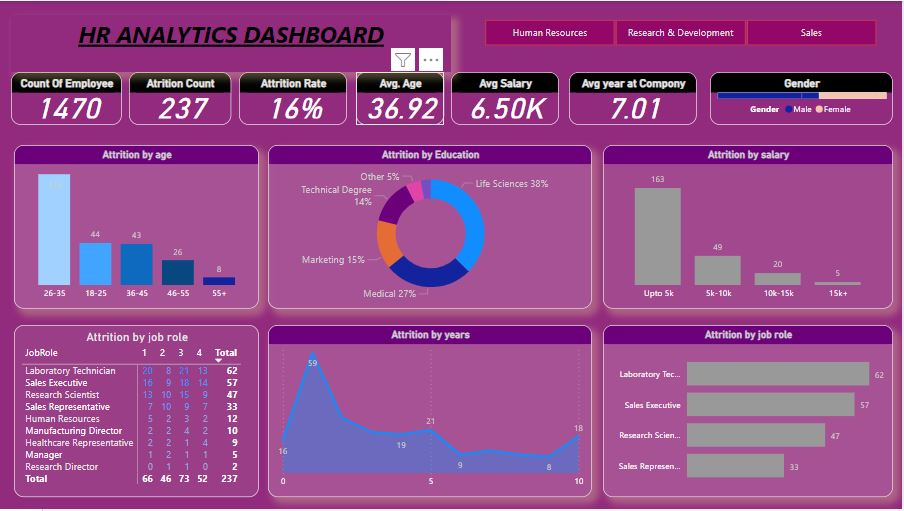

What the dashboard file says about the page in this screenshot:
{"tool":"powerbi","page":{"name":"Page 1","canvas":[1280,720],"ordinal":0},"visuals":[{"type":"card","title":"Count Of Employee","fields":{"Values":["CountNonNull(HR_Analytics.EmpID)"]},"box":[17,100.6,157.3,75.1],"z":0},{"type":"card","title":"Atrition Count","fields":{"Values":["Sum(HR_Analytics.Attritioncount)"]},"box":[184.3,100.6,144.6,75.1],"z":1000},{"type":"card","title":"Attrition Rate","fields":{"Values":["HR_Analytics.attrition rate"]},"box":[340.2,100.6,153.1,75.1],"z":2000},{"type":"card","title":"Avg. Age","fields":{"Values":["Avg(HR_Analytics.Age)"]},"box":[506,100.6,124.7,75.1],"z":3000},{"type":"card","title":"Avg  year at Compony","fields":{"Values":["Avg(HR_Analytics.YearsAtCompany)"]},"box":[807.9,100.6,181.4,75.1],"z":4000},{"type":"card","title":"Avg Salary","fields":{"Values":["Avg(HR_Analytics.MonthlyIncome)"]},"box":[640.6,100.6,153.1,75.1],"z":5000},{"type":"treemap","title":"Gender","fields":{"Values":["CountNonNull(HR_Analytics.EmpID)"],"Group":["HR_Analytics.Gender"],"Details":["HR_Analytics.Attritioncount"]},"box":[1007.7,100.6,259.4,75.1],"z":6000},{"type":"donutChart","title":" Attrition by Education","fields":{"Category":["HR_Analytics.EducationField"],"Y":["Sum(HR_Analytics.Attritioncount)"]},"box":[381.3,204.1,459.2,232.4],"z":7000},{"type":"columnChart","title":" Attrition by age","fields":{"Category":["HR_Analytics.AgeGroup"],"Y":["Sum(HR_Analytics.Attritioncount)"]},"box":[21.3,204.1,347.2,232.4],"z":8000},{"type":"pivotTable","title":"Attrition by  job role","fields":{"Rows":["HR_Analytics.JobRole"],"Columns":["HR_Analytics.JobSatisfaction"],"Values":["Sum(HR_Analytics.Attritioncount)"]},"box":[21.3,459.2,347.2,243.8],"z":9000},{"type":"clusteredColumnChart","title":" Attrition by salary","fields":{"Category":["HR_Analytics.SalarySlab"],"Y":["Sum(HR_Analytics.Attritioncount)"]},"box":[856.1,204.1,411,232.4],"z":10000},{"type":"clusteredBarChart","title":" Attrition by job role","fields":{"Category":["HR_Analytics.JobRole"],"Y":["Sum(HR_Analytics.Attritioncount)"]},"box":[856.1,459.2,411,243.8],"z":11000},{"type":"areaChart","title":" Attrition by years","fields":{"Category":["HR_Analytics.YearsAtCompany"],"Y":["Sum(HR_Analytics.Attritioncount)"]},"box":[381.3,459.2,459.2,243.8],"z":12000},{"type":"slicer","fields":{"Values":["HR_Analytics.Department"]},"box":[663.3,19.8,603.8,49.6],"z":13000},{"type":"textbox","box":[17,19.8,623.6,80.8],"z":14000}]}

Visuals, with their boxes in screenshot pixels (x1, y1, x2, y2), scaled from the page's 1280x720 canvas onto the 904x511 screenshot:
"Count Of Employee" card: 12,71,123,125
"Atrition Count" card: 130,71,232,125
"Attrition Rate" card: 240,71,348,125
"Avg. Age" card: 357,71,445,125
"Avg  year at Compony" card: 571,71,699,125
"Avg Salary" card: 452,71,561,125
"Gender" treemap: 712,71,895,125
" Attrition by Education" donutChart: 269,145,594,310
" Attrition by age" columnChart: 15,145,260,310
"Attrition by  job role" pivotTable: 15,326,260,499
" Attrition by salary" clusteredColumnChart: 605,145,895,310
" Attrition by job role" clusteredBarChart: 605,326,895,499
" Attrition by years" areaChart: 269,326,594,499
slicer - HR_Analytics.Department: 468,14,895,49
textbox: 12,14,452,71
